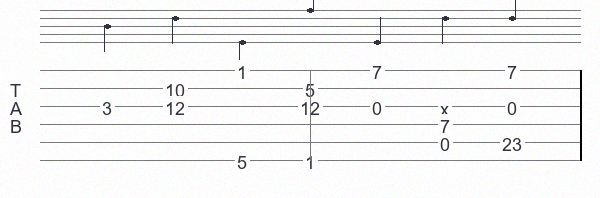0: (372, 98, 386, 115), (440, 134, 454, 151), (507, 98, 521, 115)
1: (237, 62, 251, 79), (305, 152, 319, 169)
10: (165, 80, 189, 97)
12: (165, 98, 189, 115), (300, 98, 324, 115)
23: (502, 134, 526, 151)
3: (102, 98, 116, 115)
5: (237, 152, 251, 169), (305, 80, 319, 97)
7: (372, 62, 386, 79), (440, 116, 454, 133), (507, 62, 521, 79)
x: (440, 99, 453, 113)
